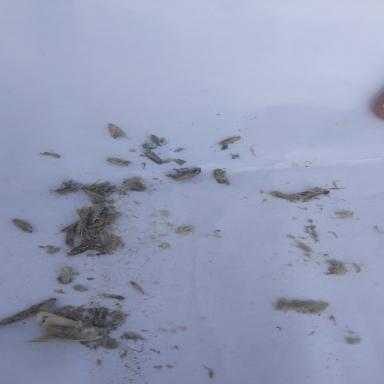abw: (26, 309, 105, 345)
pbw: (3, 309, 32, 327), (28, 297, 57, 312), (68, 240, 97, 255), (212, 168, 232, 186), (11, 218, 34, 233), (140, 149, 162, 164), (91, 306, 107, 326), (299, 187, 326, 198), (59, 180, 86, 190), (108, 123, 126, 138), (128, 179, 148, 192), (87, 208, 103, 224), (60, 266, 74, 284), (217, 136, 241, 146), (100, 292, 124, 302), (84, 190, 104, 202), (270, 191, 296, 200), (93, 184, 118, 193), (75, 218, 86, 238), (85, 181, 109, 190), (74, 206, 89, 220), (52, 186, 75, 195), (97, 230, 109, 247), (106, 157, 131, 165), (77, 231, 95, 242), (130, 280, 144, 294), (62, 220, 78, 231), (65, 229, 76, 245), (87, 245, 108, 253), (150, 135, 161, 146), (120, 182, 131, 192), (47, 247, 60, 254)
